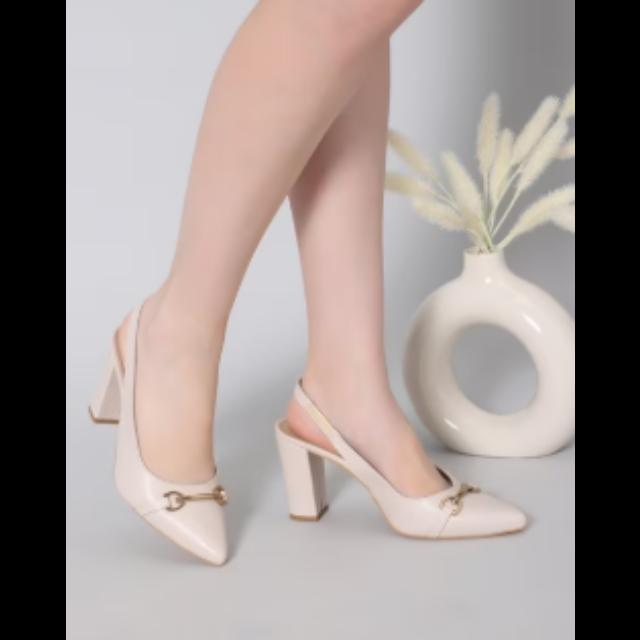shoes: (272, 378, 530, 536), (94, 314, 228, 570)
